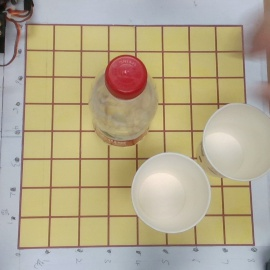bottle: (84, 53, 157, 153)
cup: (124, 151, 211, 238), (196, 101, 270, 185)
